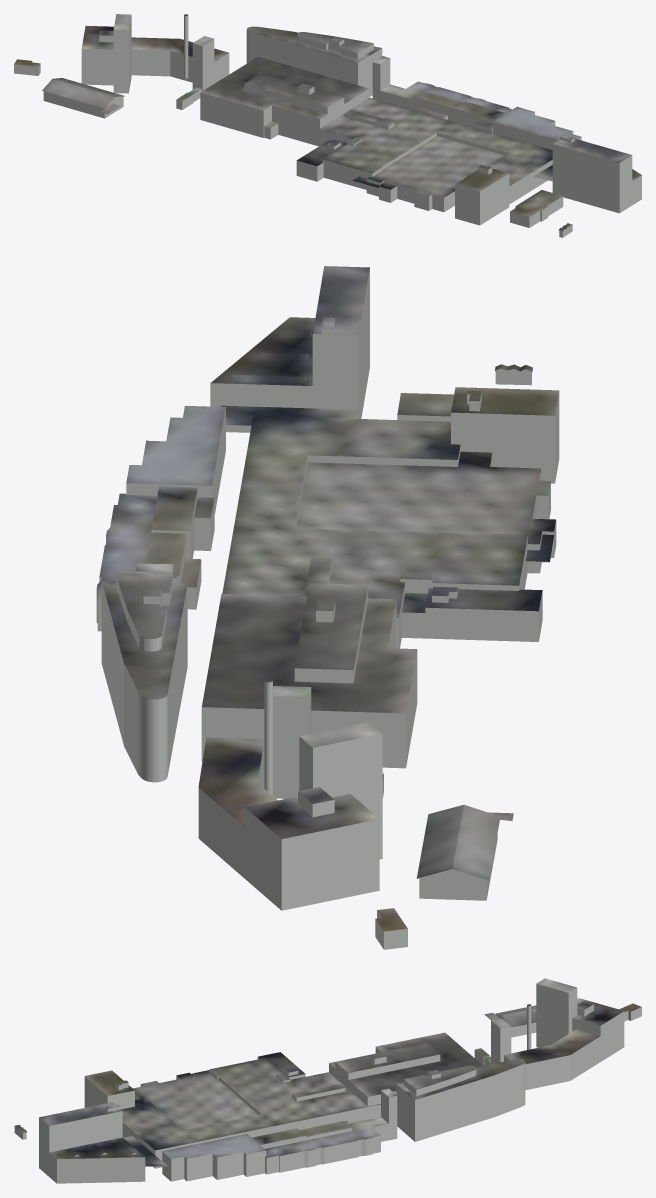
Rendered from LSZH_3_-3.glb.
The picture shows the model from 3 angles, top to bottom: view 1: azimuth 30°, elevation 25°; view 2: azimuth 150°, elevation 25°; view 3: azimuth 270°, elevation 25°; orthographic projection. The views are drawn at different scales.
Parts seen in each view (by area): view 1: building_4c64c297fb5b9af5, building_8ecdc2295ac1487e, building_bee21f3e70be0086, building_c7a97b718667e097, building_97bf18c55be04a19, building_4e7d239e8aa7e7b8, building_13caee4c72b1b12b, building_264112014eab933a; view 2: building_4c64c297fb5b9af5, building_8ecdc2295ac1487e, building_bee21f3e70be0086, building_97bf18c55be04a19, building_c7a97b718667e097, building_4e7d239e8aa7e7b8, building_13caee4c72b1b12b; view 3: building_4c64c297fb5b9af5, building_8ecdc2295ac1487e, building_bee21f3e70be0086, building_c7a97b718667e097, building_97bf18c55be04a19, building_4e7d239e8aa7e7b8.
Part boxes in pixels (x1,y1,x2,y2): building_4c64c297fb5b9af5: (200, 56, 641, 197); building_8ecdc2295ac1487e: (200, 59, 641, 225); building_bee21f3e70be0086: (14, 16, 229, 118); building_c7a97b718667e097: (246, 30, 382, 96); building_97bf18c55be04a19: (14, 14, 228, 114); building_4e7d239e8aa7e7b8: (246, 26, 381, 63); building_13caee4c72b1b12b: (510, 190, 572, 231); building_264112014eab933a: (510, 196, 572, 237); building_4c64c297fb5b9af5: (96, 266, 559, 713); building_8ecdc2295ac1487e: (96, 268, 559, 768); building_bee21f3e70be0086: (198, 682, 497, 949); building_97bf18c55be04a19: (198, 678, 513, 931); building_c7a97b718667e097: (101, 574, 187, 782); building_4e7d239e8aa7e7b8: (101, 573, 187, 699); building_13caee4c72b1b12b: (397, 364, 532, 416); building_4c64c297fb5b9af5: (39, 1032, 482, 1166); building_8ecdc2295ac1487e: (39, 1047, 440, 1183); building_bee21f3e70be0086: (474, 984, 641, 1090); building_c7a97b718667e097: (396, 1063, 525, 1141); building_97bf18c55be04a19: (475, 978, 641, 1064); building_4e7d239e8aa7e7b8: (396, 1059, 525, 1100).
Bounding box in the file's own units: 242 × 44.86 × 372.
Materials: 2 (1 with a texture image).
